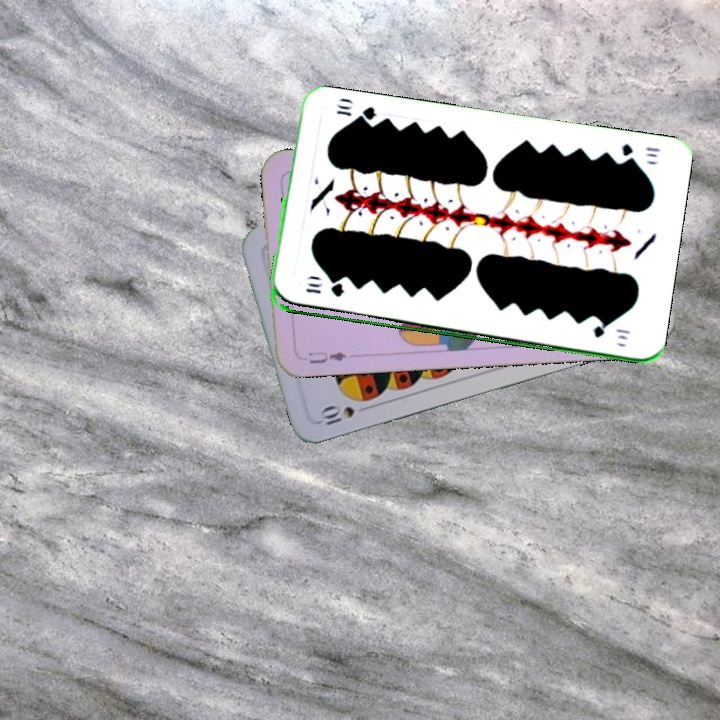EU: (304, 347, 349, 366)
G10: (617, 139, 662, 166), (301, 279, 347, 300)
S10: (316, 401, 373, 428)
